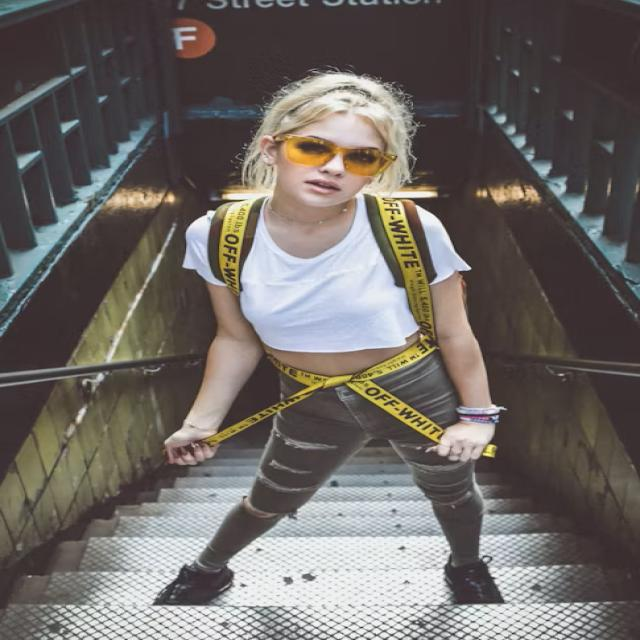Edited images: (150, 45, 519, 632)
